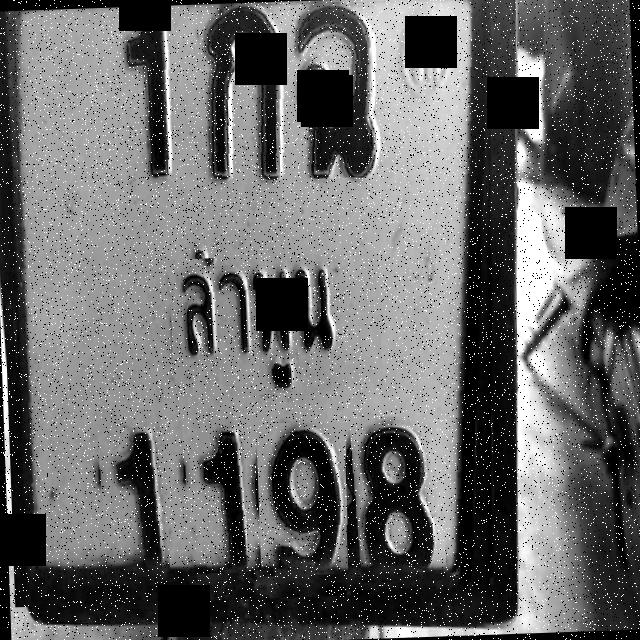letters: (198, 2, 287, 204), (103, 5, 193, 204), (282, 0, 379, 179), (348, 413, 446, 583), (255, 419, 350, 576), (180, 406, 248, 574), (97, 426, 170, 582)
license-plate: (0, 0, 490, 604)
province: (168, 252, 382, 398)
